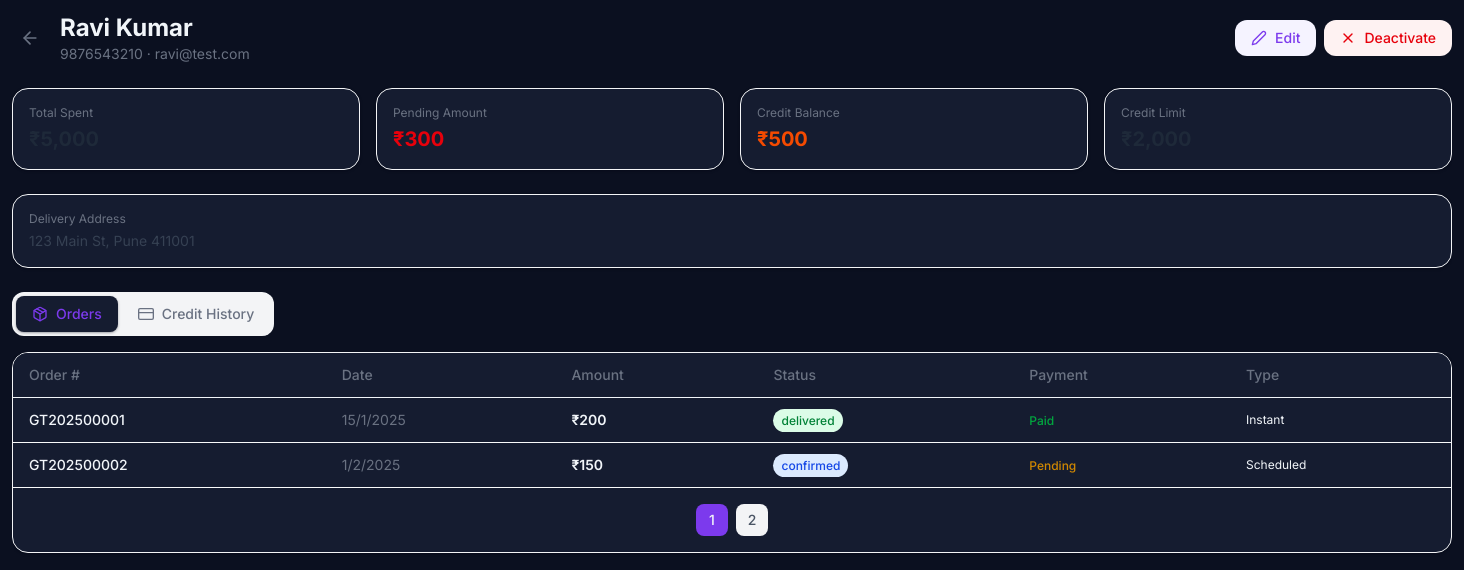
Test case: AdminCustomerDetail › switches to Credit History tab and shows transactions
Expected: the text "GT202500001" is shown, x1=13 y1=398 x2=326 y2=442
Click the button "Credit History": click(196, 314) x1=122 y1=296 x2=270 y2=332
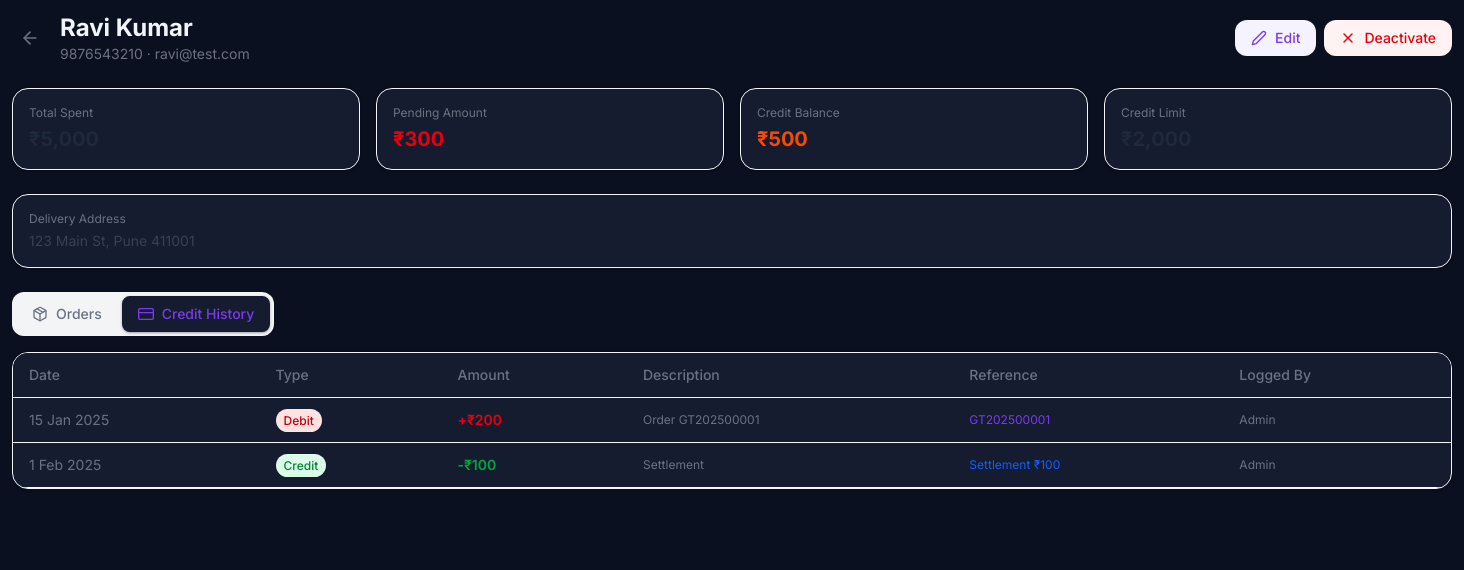
Expected: the text "Debit" is shown, x1=276 y1=409 x2=322 y2=432
Expected: the text "Credit" is shown, x1=276 y1=454 x2=326 y2=477
Expected: the text "Order GT202500001" is shown, x1=627 y1=398 x2=953 y2=442
